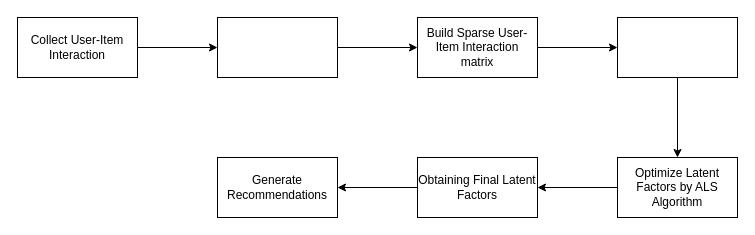
Some shapes in this 755 by 235 pixel diagram are drawn without their labels. Each missing label, with the centre of its shape:
Convert Interaction Into Scores: the point at 277,47
Initialize Latent Factors (User Factor and Item Factor): the point at 677,47
